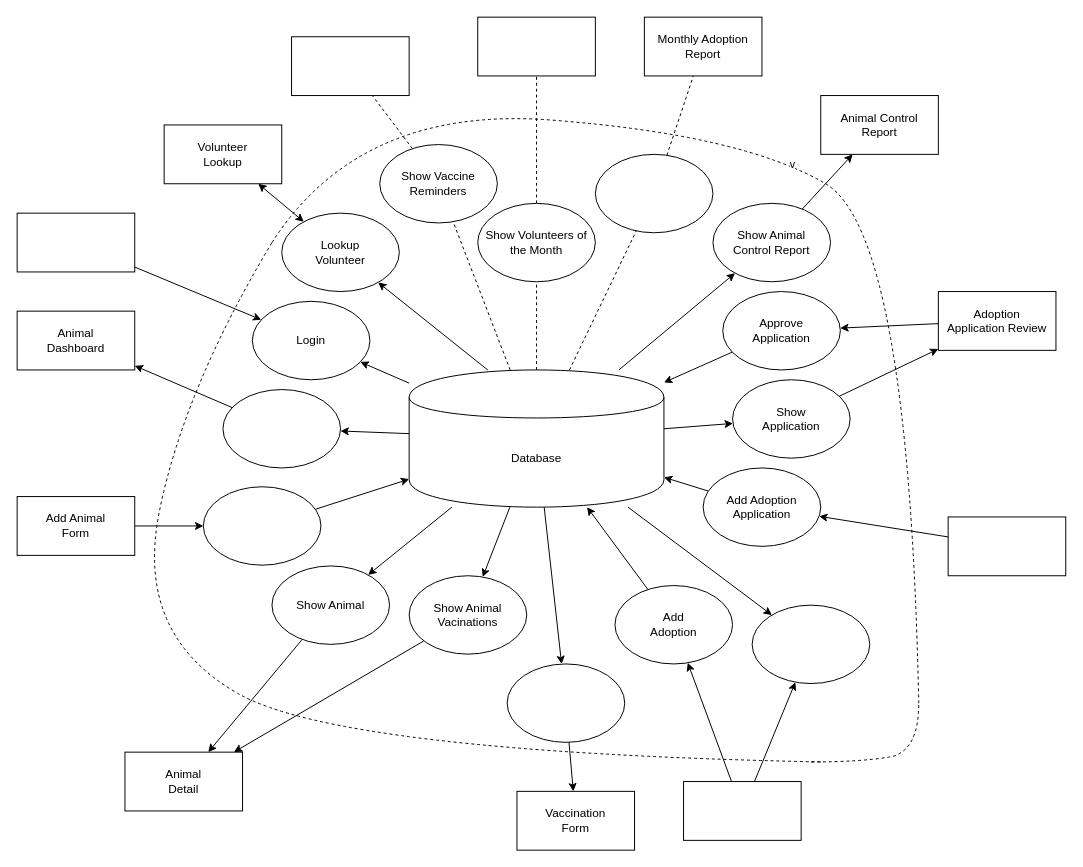
This 1083x867 diagram has some shape labels left out. Each missing label, with the box of its shape:
Add Adoption Form: (683, 781, 801, 840)
Add Animal: (202, 486, 321, 565)
Add Vacination: (506, 663, 625, 742)
Adoption Application: (947, 516, 1066, 576)
Login Form: (16, 212, 135, 272)
Lookup Adopter: (751, 604, 870, 684)
Show Animals: (222, 389, 341, 468)
Show Monthly Adoptions: (594, 153, 713, 233)
Vaccine Reminder Report: (291, 36, 409, 96)
Volunteer of the Month Report: (477, 16, 595, 76)
